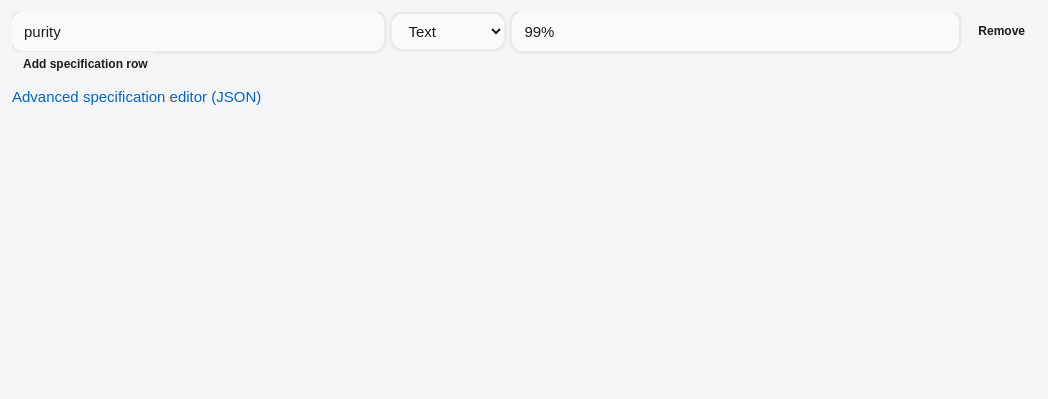
Test: SpecificationEditor › Discard of a non-object draft clears the JSON error and aria-invalid (P2-1)
Click the button "Advanced specification editor (JSON)" at coordinates (137, 96), box [12,85,261,108]
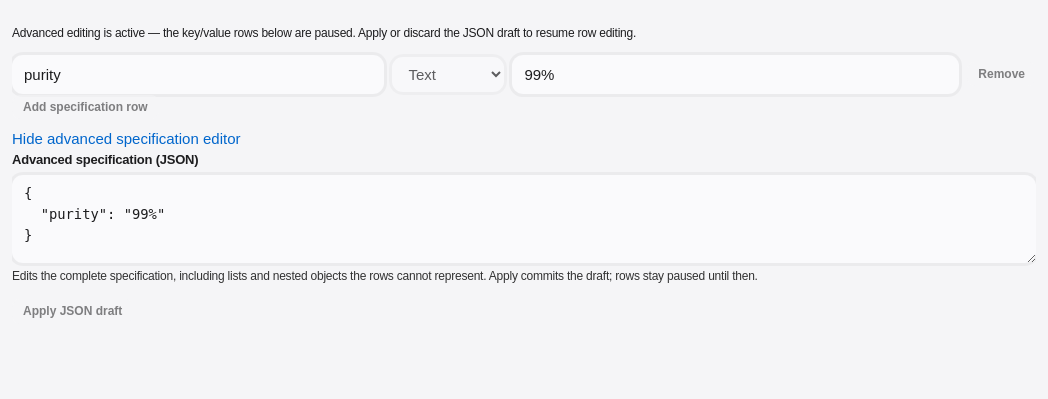
Replace the text in the text box labelled "Advanced specification (JSON)" with "[1,2]" at coordinates (524, 219), box [12,175,1036,263]
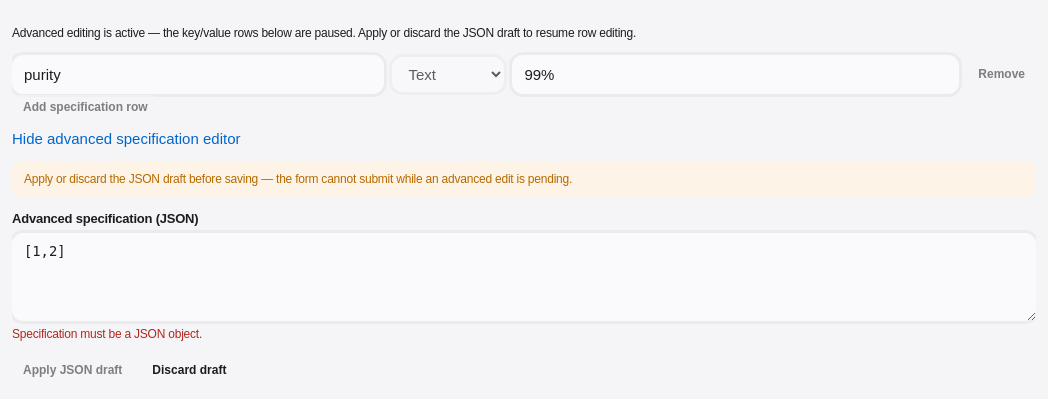
Expected: the text "Specification must be a JSON object." is shown, [12,327,202,341]
Click the button "Discard draft" at coordinates (189, 370), box [141,358,237,382]
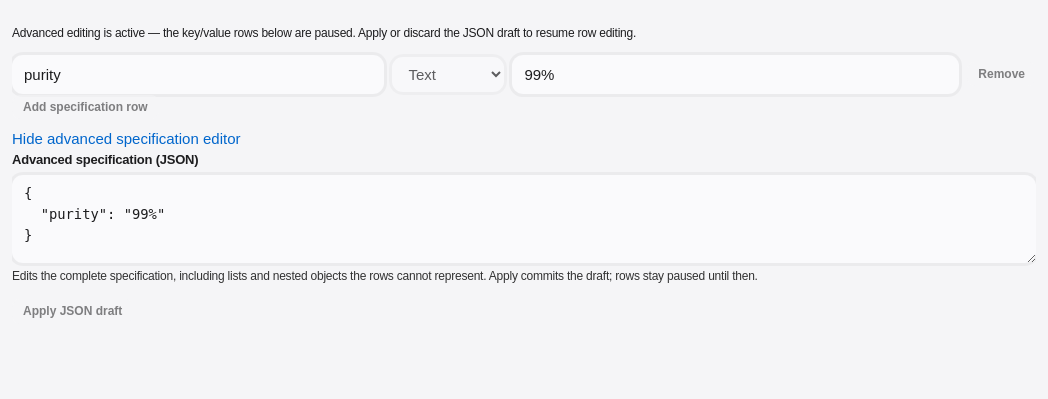
Expected: the text "Specification must be a JSON object." is gone
